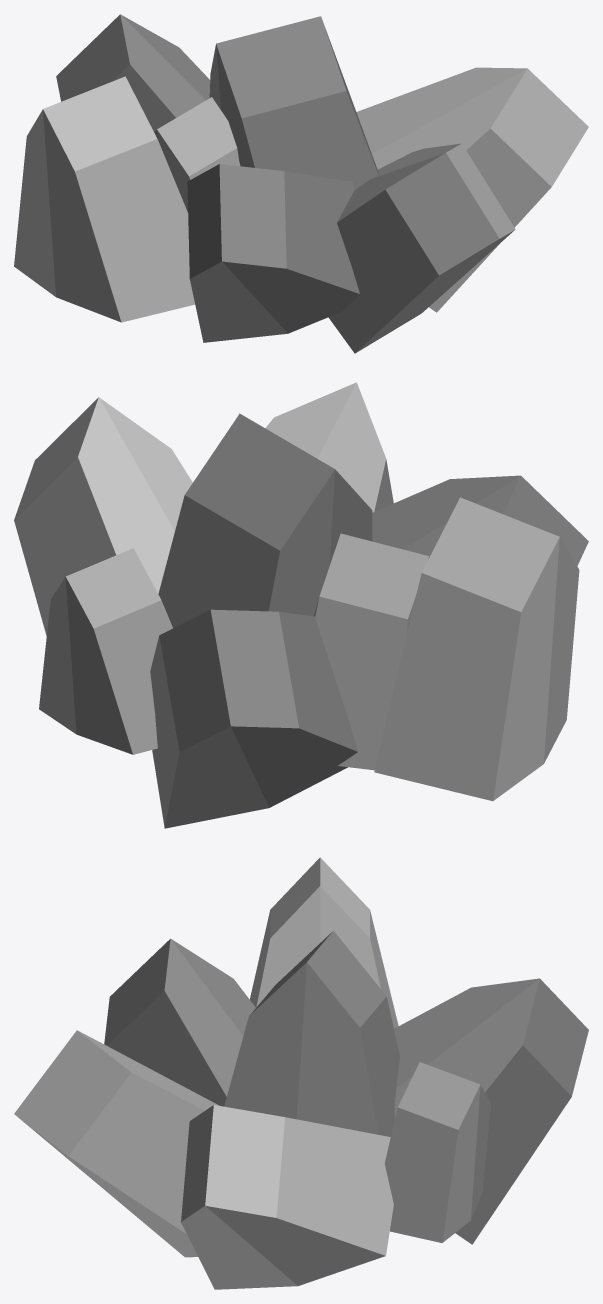
Rendered from Rock_Type3_04.glb.
The picture shows the model from 3 angles, top to bottom: view 1: azimuth 30°, elevation 25°; view 2: azimuth 150°, elevation 25°; view 3: azimuth 270°, elevation 25°; orthographic projection. The views are drawn at different scales.
Parts seen in each view (by area): view 1: Rock Type3 04 mesh; view 2: Rock Type3 04 mesh; view 3: Rock Type3 04 mesh.
Part boxes in pixels (x1=…): Rock Type3 04 mesh: x1=14, y1=14, x2=588, y2=353; Rock Type3 04 mesh: x1=14, y1=382, x2=588, y2=828; Rock Type3 04 mesh: x1=14, y1=857, x2=588, y2=1289.
Bounding box in the file's own units: 1.29 × 0.7066 × 1.26.
1 material, 1 textured.
